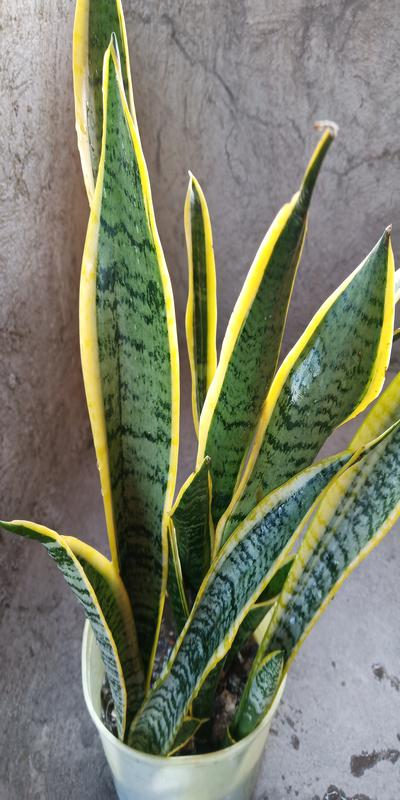Snake plant: (59, 3, 378, 741)
